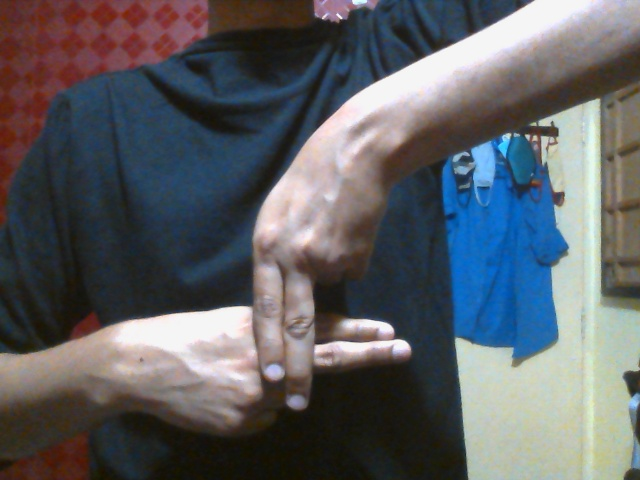F: (131, 158, 413, 442)
